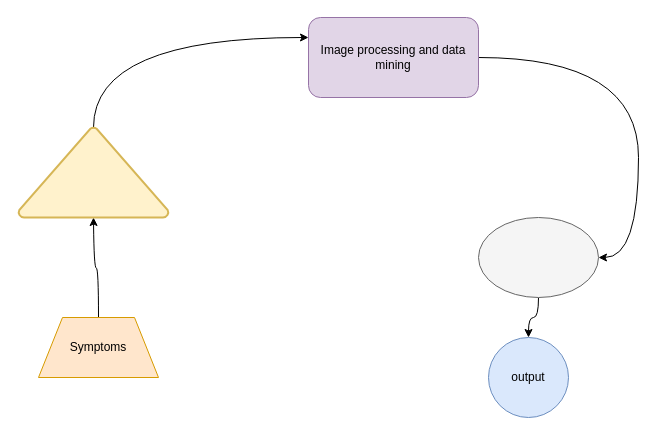
Image size: 656x435. Some labels were removed from this diagram. The centre of each missing label's shape, as x and y in pixels:
Machine learning: point (538, 257)
Upload the image: point (93, 172)
